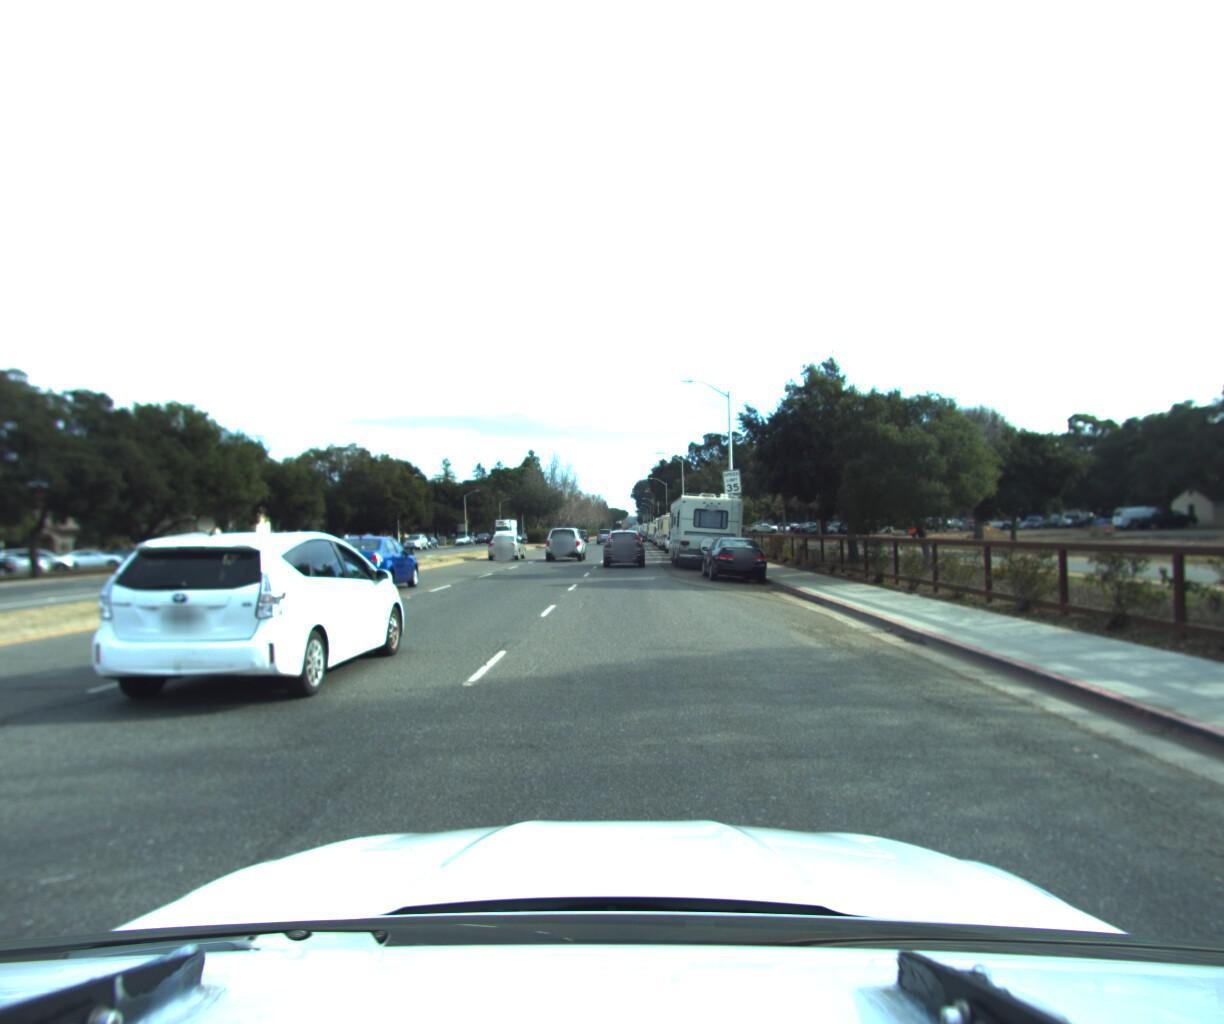car: (72, 526, 417, 726), (313, 533, 431, 600), (697, 531, 771, 579), (599, 522, 647, 565), (544, 522, 589, 560), (484, 530, 529, 559)
other_vehicle: (660, 485, 753, 569), (653, 507, 696, 548)
